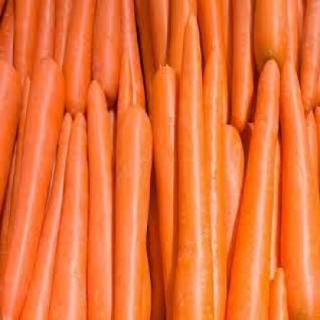Wortel: (1, 54, 69, 320), (172, 10, 216, 320), (112, 106, 154, 319)
